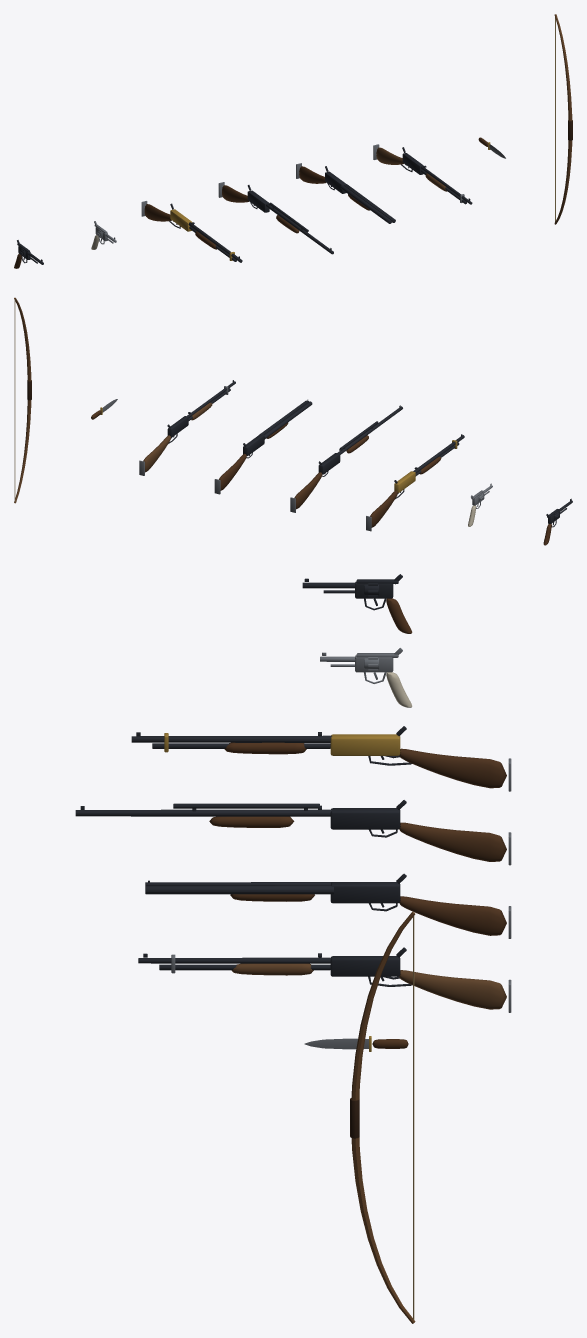
File: weapons.fbx
3 renders of one model, top to bottom at view 1: azimuth 30°, elevation 25°; view 2: azimuth 150°, elevation 25°; view 3: azimuth 270°, elevation 25°, orthographic. The views are drawn at different scales.
Visible parts, largest first — view 1: w_longshot, w_thunder, w_drover, w_magpie, w_bow; view 2: w_longshot, w_thunder, w_bow, w_drover, w_magpie, w_pilgrim; view 3: w_longshot, w_drover, w_thunder, w_magpie, w_bow, w_pilgrim, w_wasp, w_knife.
Boxes of the visible parts, x1=… form: w_longshot: x1=218, y1=182, x2=333, y2=254; w_thunder: x1=296, y1=163, x2=395, y2=223; w_drover: x1=141, y1=201, x2=242, y2=262; w_magpie: x1=373, y1=144, x2=472, y2=204; w_bow: x1=554, y1=14, x2=572, y2=224; w_longshot: x1=290, y1=405, x2=402, y2=512; w_thunder: x1=214, y1=399, x2=312, y2=494; w_bow: x1=14, y1=297, x2=31, y2=503; w_drover: x1=366, y1=434, x2=464, y2=531; w_magpie: x1=139, y1=380, x2=235, y2=475; w_pilgrim: x1=543, y1=498, x2=572, y2=545; w_longshot: x1=75, y1=800, x2=511, y2=865; w_drover: x1=131, y1=726, x2=511, y2=791; w_thunder: x1=145, y1=873, x2=511, y2=938; w_magpie: x1=138, y1=947, x2=511, y2=1012; w_bow: x1=350, y1=911, x2=415, y2=1323; w_pilgrim: x1=302, y1=574, x2=412, y2=633; w_wasp: x1=320, y1=648, x2=412, y2=707; w_knife: x1=304, y1=1036, x2=408, y2=1051.
Bounding box in the file's own units: 3.54 × 1.3 × 1.25.
